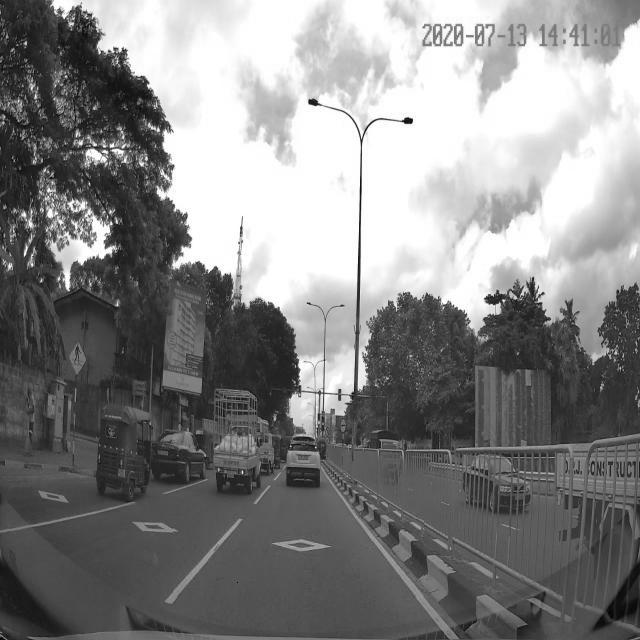diamond: (173, 519, 424, 597)
